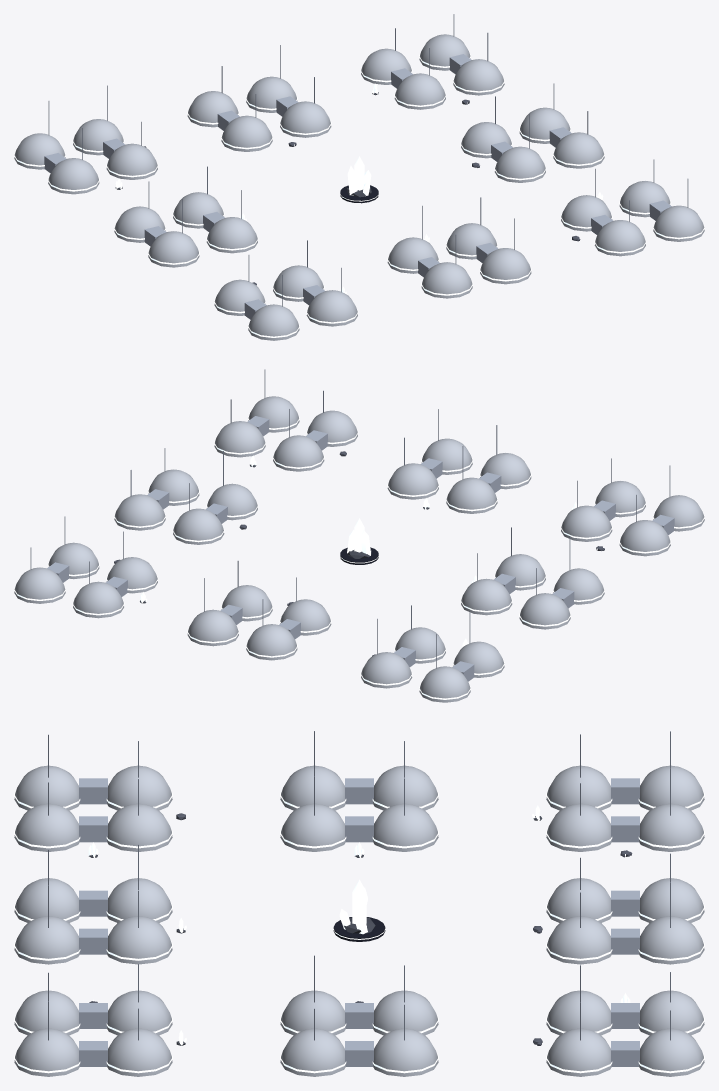
3 views of the same model, one above another, from view 1: azimuth 30°, elevation 25°; view 2: azimuth 150°, elevation 25°; view 3: azimuth 270°, elevation 25° (orthographic). The views are drawn at different scales.
Visible parts, largest first — view 1: district_city_frontera.lod1; view 2: district_city_frontera.lod1; view 3: district_city_frontera.lod1.
Boxes of the visible parts, <box> form: district_city_frontera.lod1: <box>14,14,704,340</box>; district_city_frontera.lod1: <box>14,369,704,702</box>; district_city_frontera.lod1: <box>14,731,704,1076</box>.
Bounding box in the file's own units: 96.12 × 11.79 × 96.12.
